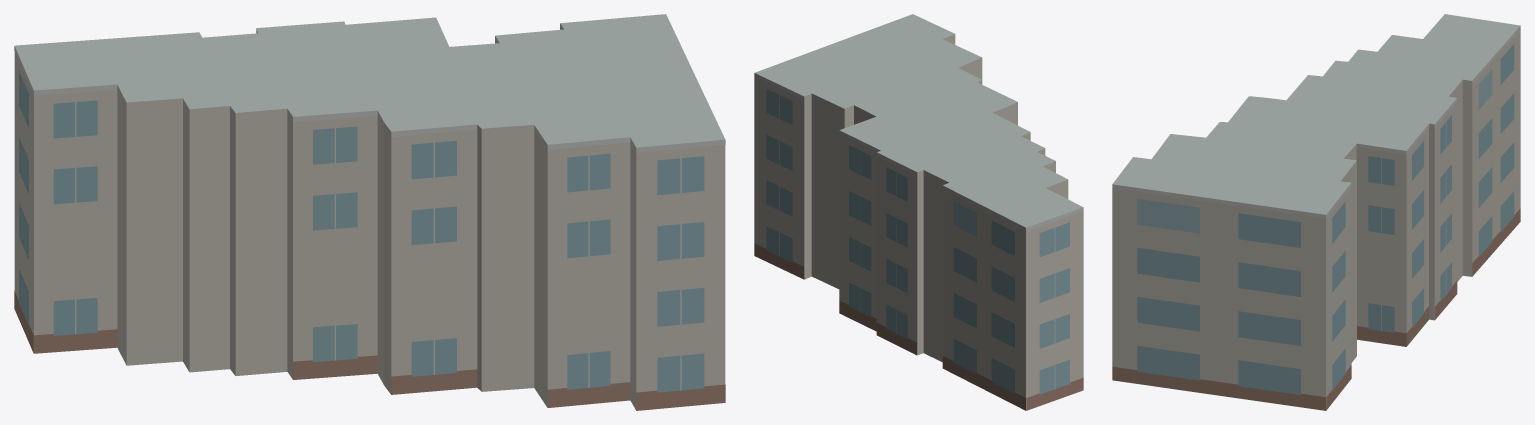
The model's file is survey-upis-32727450.glb.
The picture shows the model from 3 angles, left to right: view 1: azimuth 30°, elevation 25°; view 2: azimuth 150°, elevation 25°; view 3: azimuth 270°, elevation 25°; orthographic projection. The views are drawn at different scales.
Parts seen in each view (by area): view 1: survey-upis-32727450.tmp; view 2: survey-upis-32727450.tmp; view 3: survey-upis-32727450.tmp.
Part boxes in pixels (bbox=[...]): survey-upis-32727450.tmp: bbox=[14, 14, 725, 410]; survey-upis-32727450.tmp: bbox=[754, 14, 1083, 410]; survey-upis-32727450.tmp: bbox=[1112, 14, 1520, 410].
Size of the model in its own units: 26.82 by 12.2 by 23.04.
